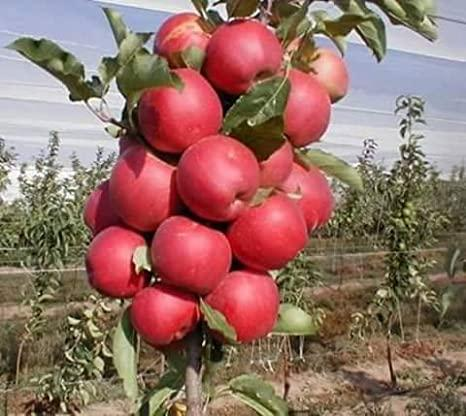apple: (134, 62, 221, 153), (172, 130, 259, 221), (196, 14, 284, 98), (225, 190, 309, 272), (151, 214, 235, 296), (109, 142, 181, 230), (200, 267, 276, 340), (83, 225, 153, 297), (130, 287, 202, 345), (281, 68, 331, 147)
